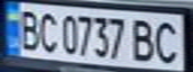0: (57, 11, 78, 55)
3: (90, 14, 112, 58)
7: (106, 14, 130, 61), (75, 12, 93, 57)
B: (127, 16, 160, 63), (12, 6, 42, 52)
C: (151, 18, 184, 65), (36, 9, 60, 54)
